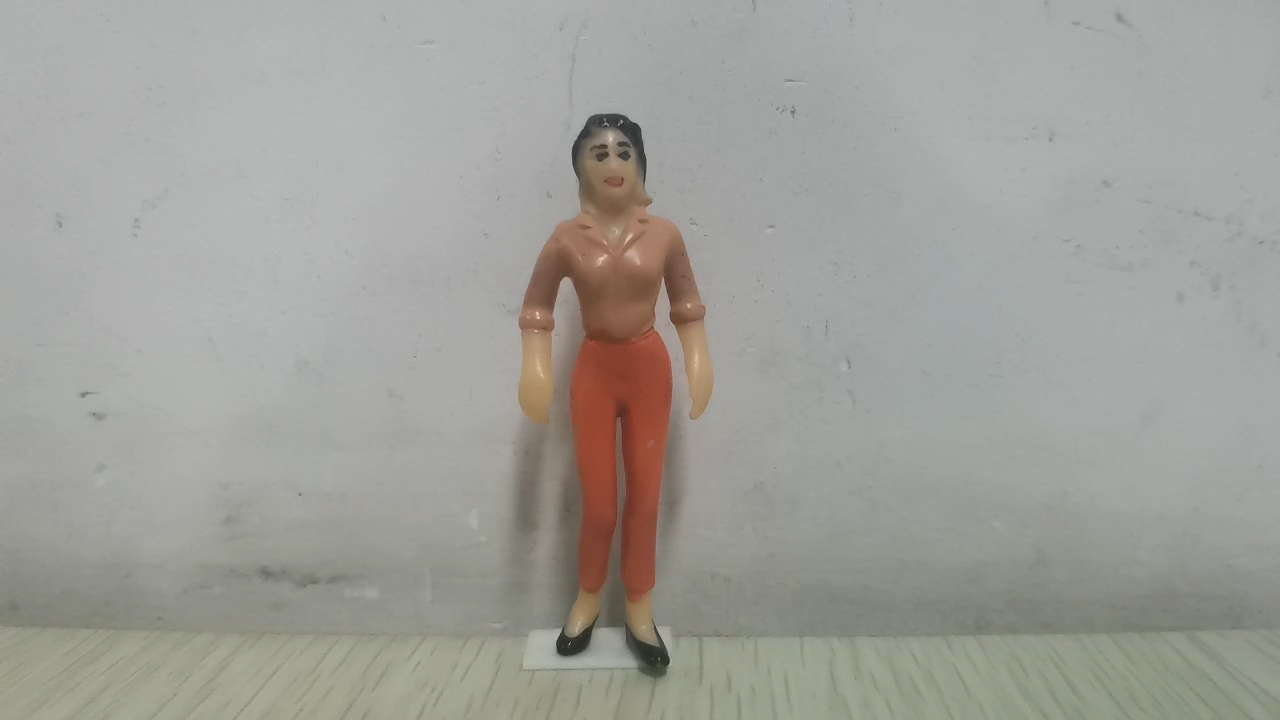person: (514, 113, 717, 670)
